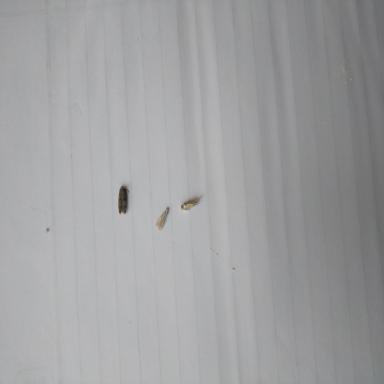pbw: (179, 194, 202, 212), (118, 184, 129, 213)
